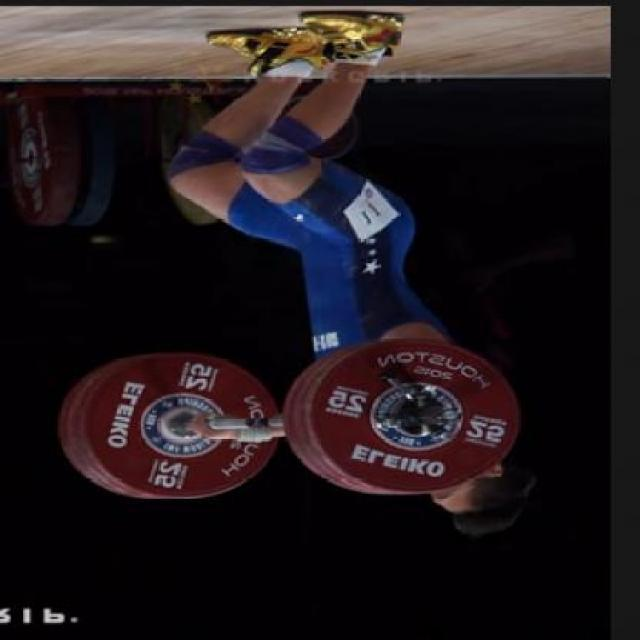Barbell: (436, 406, 464, 428)
